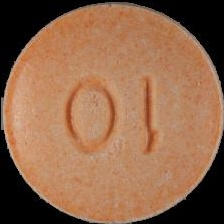16590-808: (0, 0, 224, 224)
